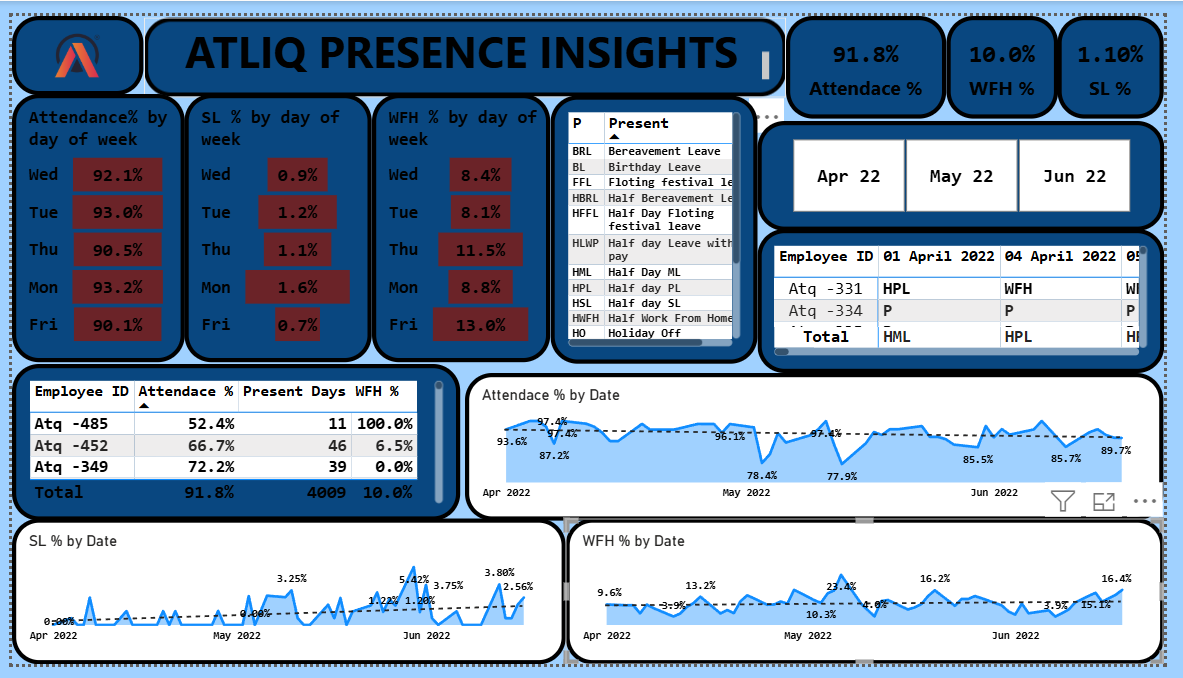

Layout of this report page (visuals, bound fields, positions):
{"tool":"powerbi","page":{"name":"Presence Insights","canvas":[1280,720],"ordinal":0},"visuals":[{"type":"tableEx","fields":{"Values":["Final Data.Employee ID","Measures (2).Attendace %","Measures (2).Present Days","Measures (2).WFH %"]},"box":[0,386,498,174],"z":0},{"type":"card","fields":{"Values":["Measures (2).Attendace %"]},"box":[860,0,178,114],"z":1000},{"type":"card","fields":{"Values":["Measures (2).WFH %"]},"box":[1038,0,124,114],"z":2000},{"type":"card","fields":{"Values":["Measures (2).SL %"]},"box":[1162,0,118,114],"z":3000},{"type":"textbox","box":[146,2,714,88],"z":4000},{"type":"pivotTable","fields":{"Rows":["Final Data.Employee ID"],"Columns":["Final Data.Date"],"Values":["Min(Final Data.Value)"]},"box":[828,236,452,160],"z":5000},{"type":"funnel","title":"Attendance% by day of week","fields":{"Category":["Final Data.day of week"],"Y":["Measures (2).Attendace %"]},"box":[0,86,192,298],"z":6000},{"type":"image","box":[0,0,146,88],"z":7000},{"type":"slicer","fields":{"Values":["Final Data.MMM YY"]},"box":[828,116,452,122],"z":8000},{"type":"funnel","fields":{"Category":["Final Data.day of week"],"Y":["Measures (2).SL %"]},"box":[192,86,208,298],"z":9000},{"type":"funnel","fields":{"Category":["Final Data.day of week"],"Y":["Measures (2).WFH %"]},"box":[400,86,198,298],"z":10000},{"type":"tableEx","fields":{"Values":["key.P","key.Present "]},"box":[598,88,230,298],"z":11000},{"type":"areaChart","fields":{"Category":["Final Data.Date"],"Y":["Measures (2).WFH %"]},"box":[615,558.3,665,161.7],"z":12000},{"type":"areaChart","fields":{"Y":["Measures (2).Attendace %"],"Category":["Final Data.Date"]},"box":[504,396,776,164],"z":13000},{"type":"areaChart","fields":{"Category":["Final Data.Date"],"Y":["Measures (2).SL %"]},"box":[0,558.3,615,161.7],"z":14000}]}

Visuals, with their boxes in screenshot pixels (x1, y1, x2, y2), scaled from the page's 1280x720 canvas onto the 1183x678 screenshot:
tableEx - Final Data.Employee ID x Measures (2).Attendace %: box=[0, 363, 460, 527]
card - Measures (2).Attendace %: box=[795, 0, 959, 107]
card - Measures (2).WFH %: box=[959, 0, 1074, 107]
card - Measures (2).SL %: box=[1074, 0, 1182, 107]
textbox: box=[135, 2, 795, 85]
pivotTable - Final Data.Employee ID x Final Data.Date: box=[765, 222, 1182, 373]
"Attendance% by day of week" funnel: box=[0, 81, 177, 362]
image: box=[0, 0, 135, 83]
slicer - Final Data.MMM YY: box=[765, 109, 1182, 224]
funnel - Final Data.day of week x Measures (2).SL %: box=[177, 81, 370, 362]
funnel - Final Data.day of week x Measures (2).WFH %: box=[370, 81, 553, 362]
tableEx - key.P x key.Present : box=[553, 83, 765, 363]
areaChart - Final Data.Date x Measures (2).WFH %: box=[568, 526, 1182, 677]
areaChart - Measures (2).Attendace % x Final Data.Date: box=[466, 373, 1182, 527]
areaChart - Final Data.Date x Measures (2).SL %: box=[0, 526, 568, 677]
